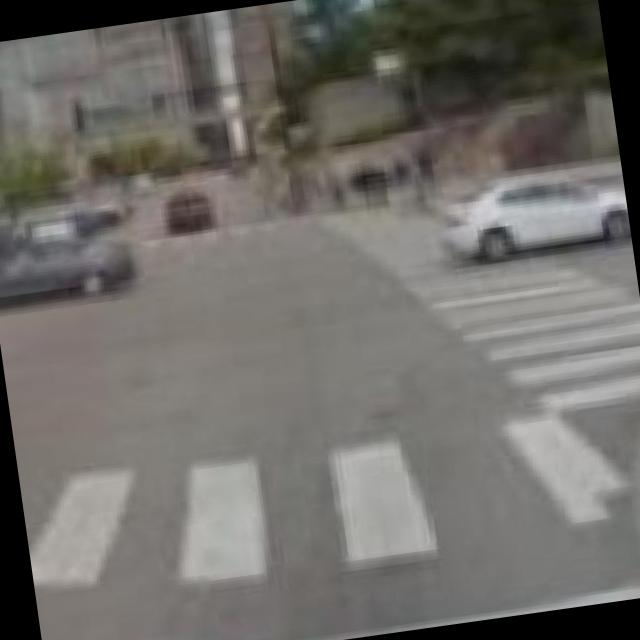zebra: (32, 399, 640, 611), (315, 179, 640, 431)
